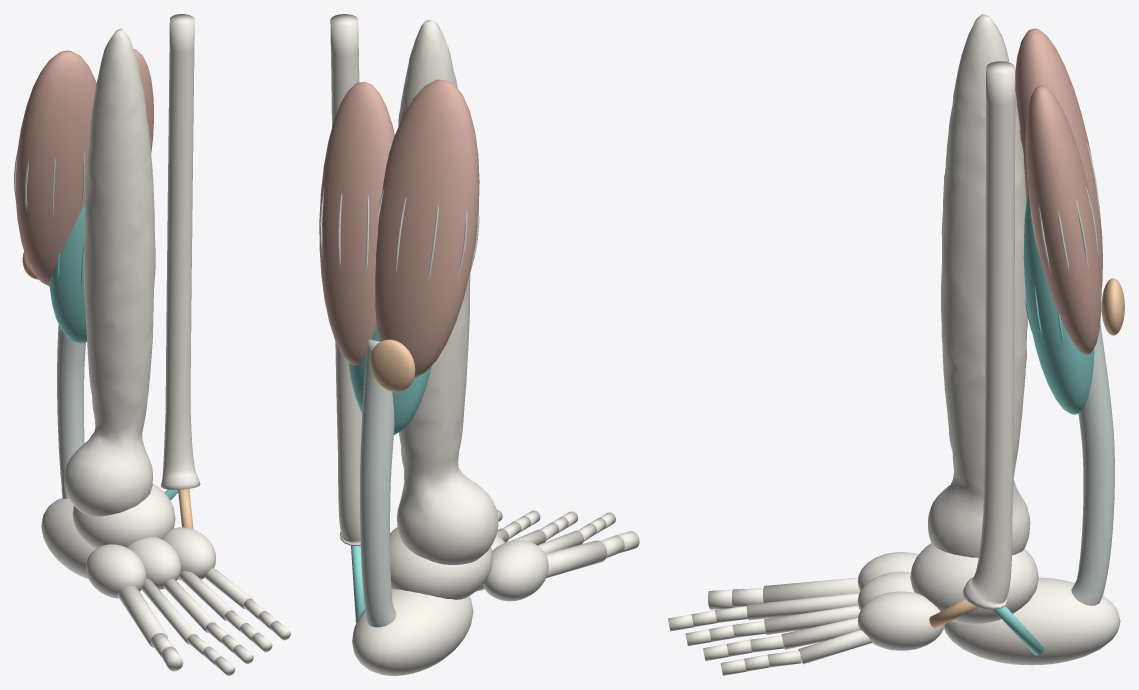
The model's file is calf-tear.glb.
3 renders of one model, left to right at view 1: azimuth 30°, elevation 25°; view 2: azimuth 150°, elevation 25°; view 3: azimuth 270°, elevation 25°, orthographic. The views are drawn at different scales.
Parts seen in each view (by area): view 1: static #eee5d3, static #bb7564, static #c7ddd2, static #49bdb4, static #f2a066; view 2: static #eee5d3, static #bb7564, static #c7ddd2, static #49bdb4, static #f2a066; view 3: static #eee5d3, static #bb7564, static #c7ddd2, static #49bdb4, static #f2a066.
Boxes of the visible parts, box(x1,y1,x2,y2) form: static #eee5d3: box(41, 14, 290, 675); static #bb7564: box(15, 49, 153, 286); static #c7ddd2: box(14, 136, 151, 498); static #49bdb4: box(49, 203, 178, 500); static #f2a066: box(22, 251, 193, 529); static #eee5d3: box(330, 14, 639, 675); static #bb7564: box(319, 79, 479, 378); static #c7ddd2: box(320, 187, 479, 627); static #49bdb4: box(348, 323, 431, 622); static #f2a066: box(370, 339, 415, 392); static #eee5d3: box(668, 14, 1120, 675); static #bb7564: box(1015, 28, 1102, 355); static #c7ddd2: box(1029, 142, 1114, 605); static #49bdb4: box(993, 194, 1094, 655); static #f2a066: box(929, 278, 1124, 628).
Size of the model in its own units: 0.1384 by 0.4888 by 0.3128.
